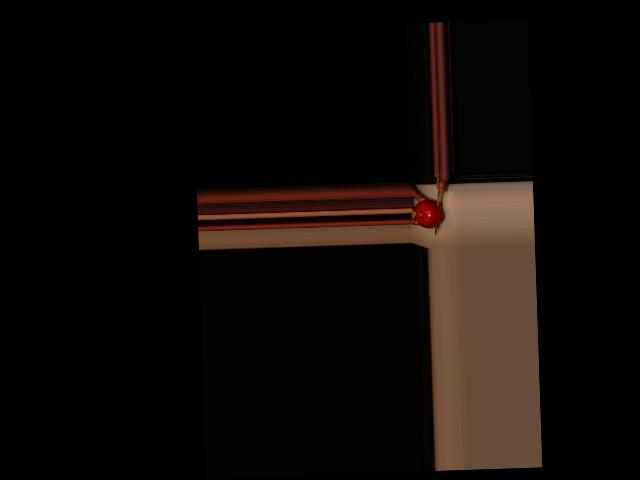tomato: (414, 199, 444, 229)
